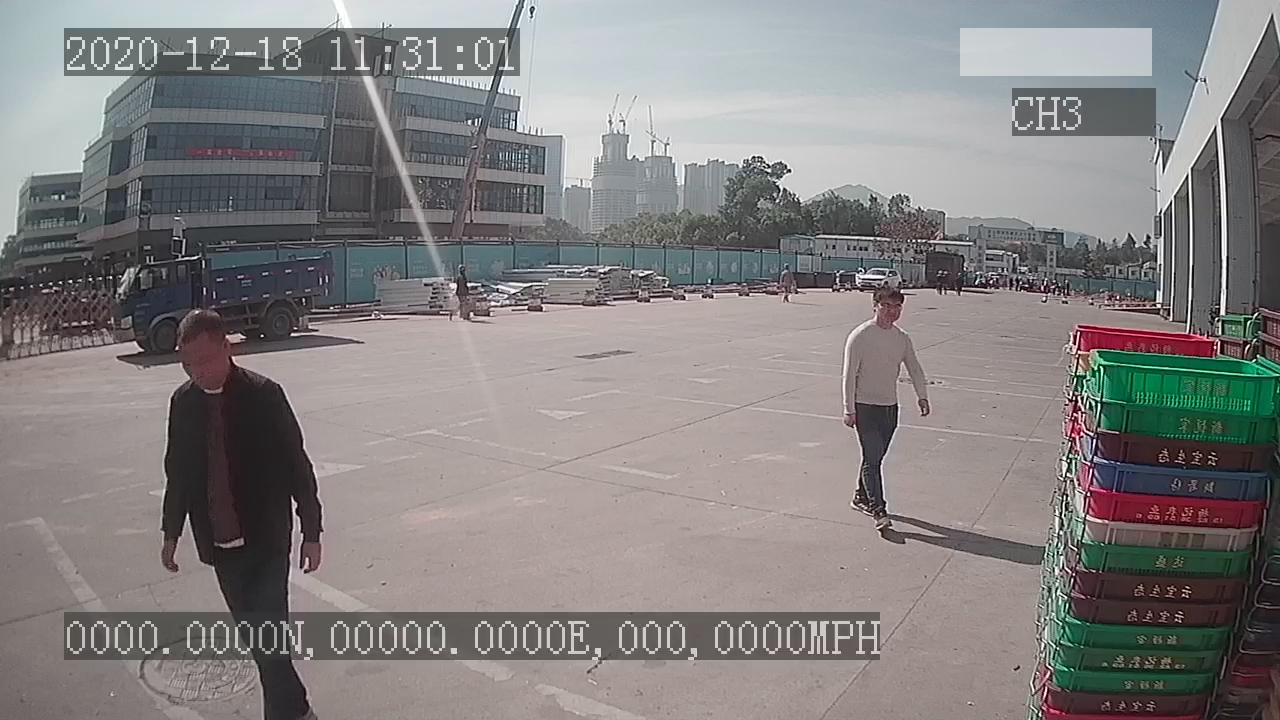person: (835, 285, 929, 548)
